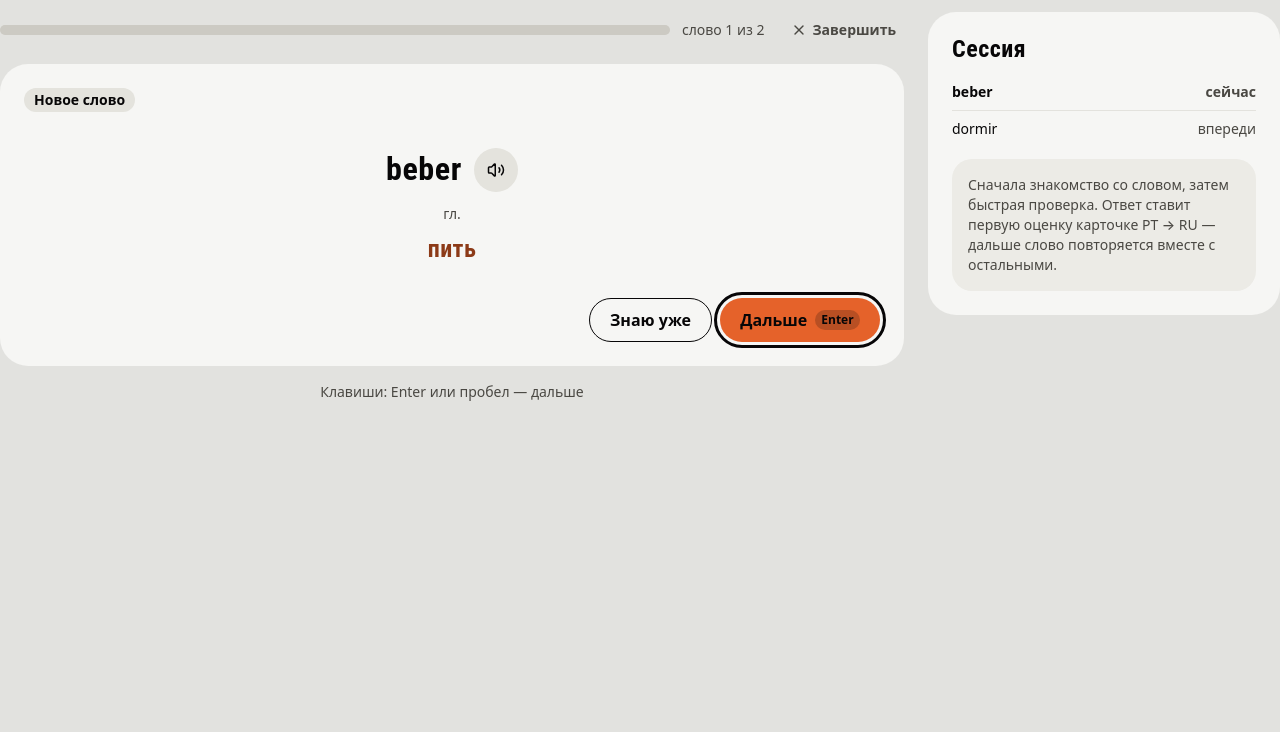
it: LearnNewSession · full flow › «Знаю уже» on the last study word keeps it out of the check [B-21]
The image size is (1280, 732).
Click the button "Дальше Enter": (800, 320) x1=720 y1=298 x2=880 y2=342
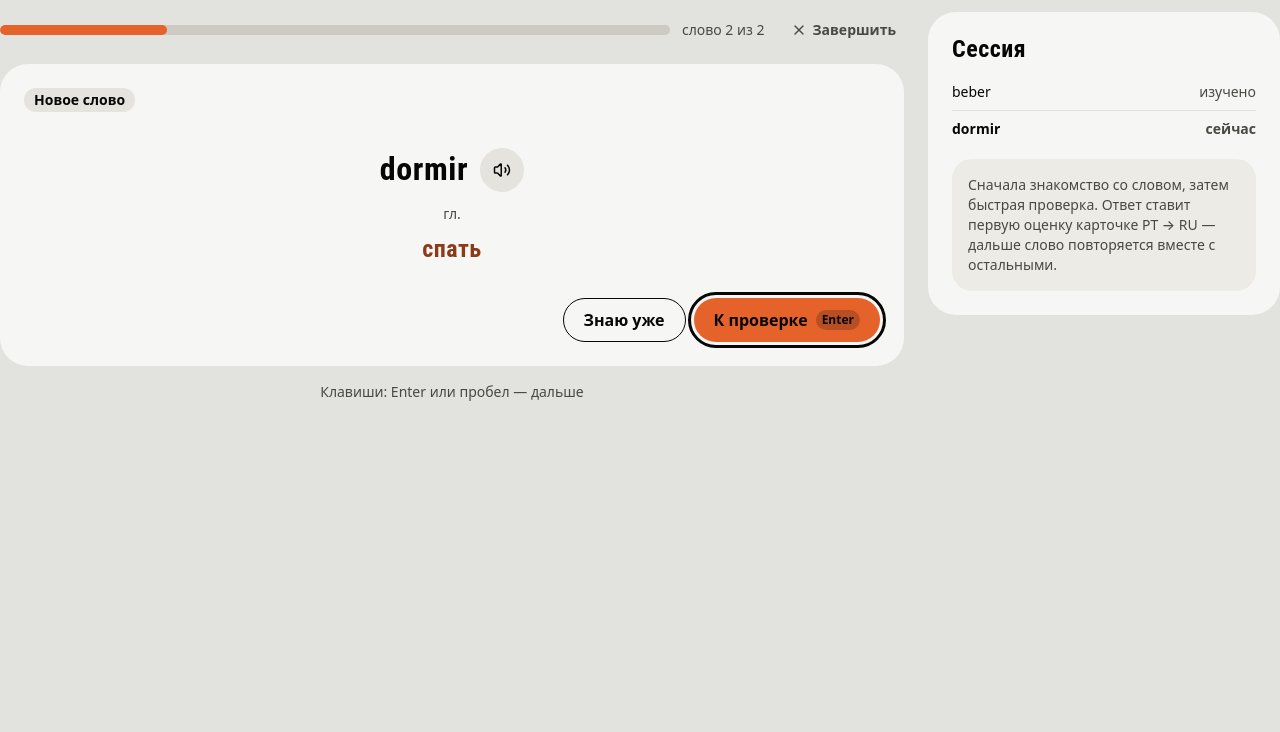
Click the button "Знаю уже": (624, 320) x1=562 y1=298 x2=686 y2=342
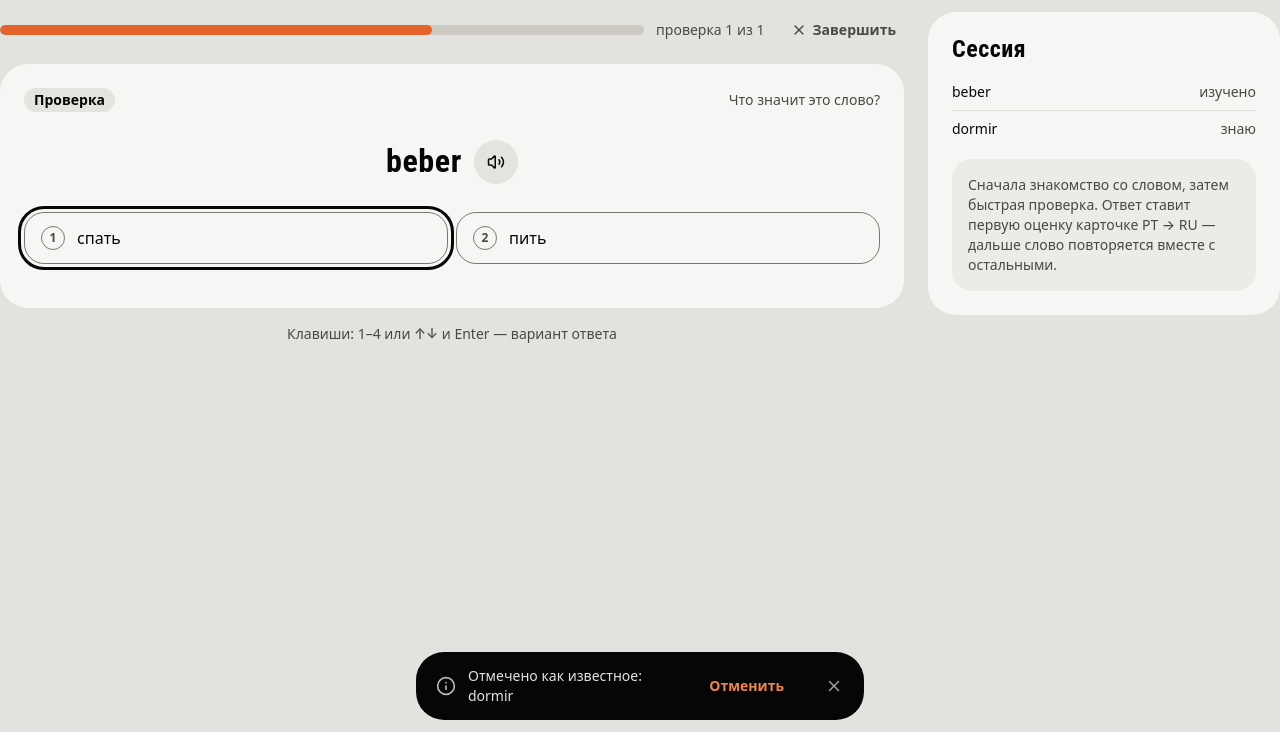
Check: the text "проверка 1 из 1" is shown, box x1=656 y1=20 x2=765 y2=40
Check: the heading "beber" is shown, box x1=386 y1=145 x2=462 y2=179
